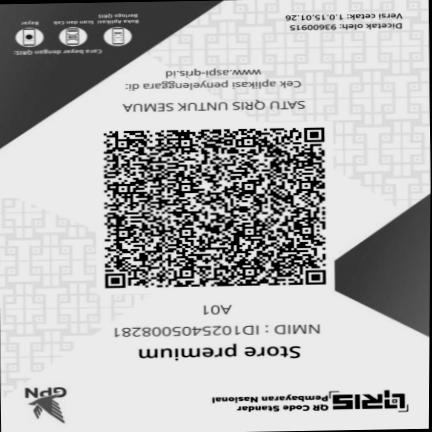Cara Pakai QRIS: (0, 5, 145, 57)
Cek Aplikasi Penyelenggara: (115, 63, 318, 95)
Dicetak Oleh: (288, 22, 403, 33)
Logo GPN: (17, 379, 79, 426)
Logo dan deskripsi QRIS: (197, 384, 416, 422)
Nama Merchant: (131, 343, 309, 365)
National Merchant ID: (103, 317, 333, 344)
QR Code: (89, 122, 338, 294)
Slogan: (117, 97, 317, 116)
Terminal ID: (185, 302, 247, 315)
Versi Cetak: (282, 10, 404, 22)
